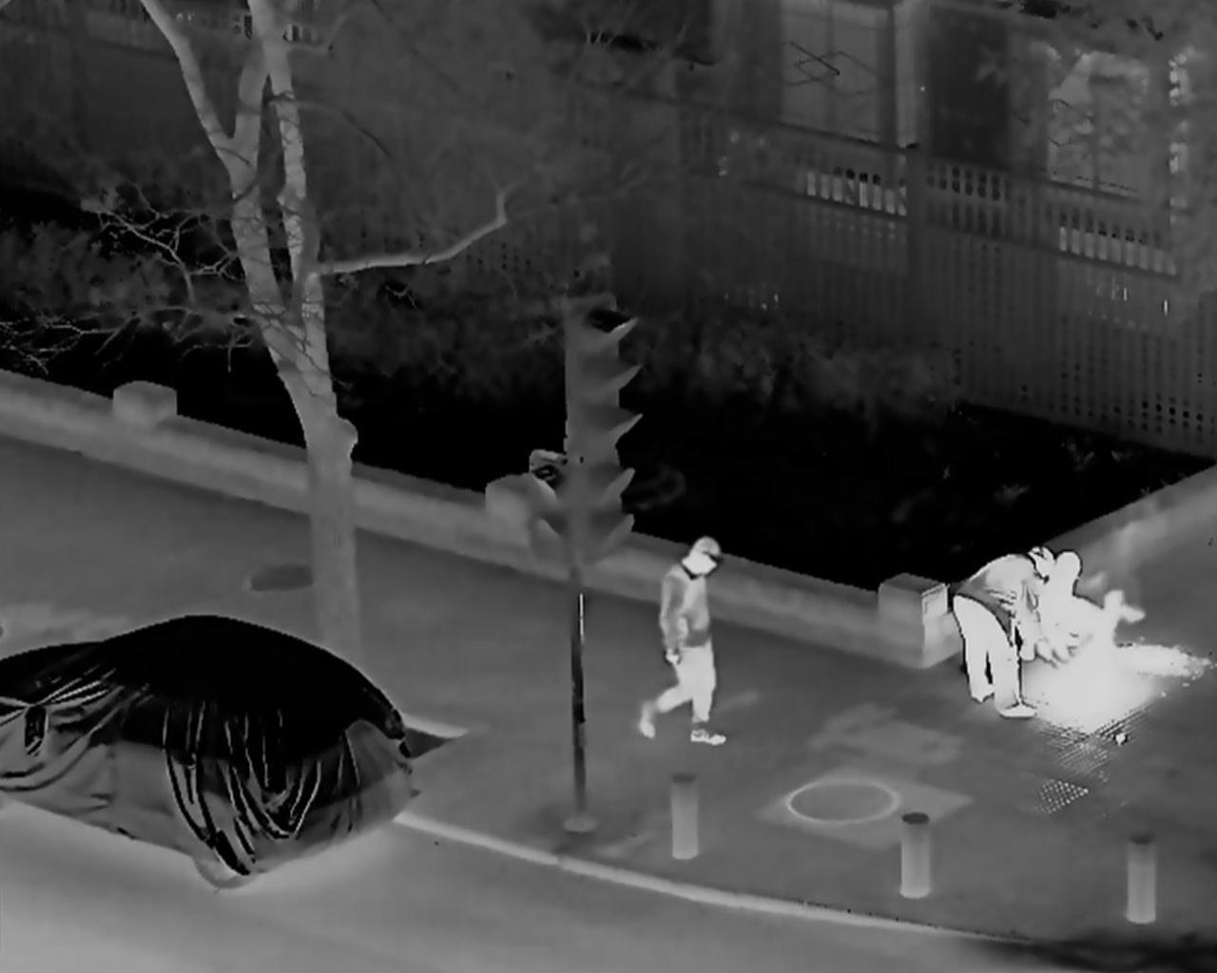person: (638, 535, 726, 752), (956, 547, 1053, 722), (1033, 552, 1111, 664)
